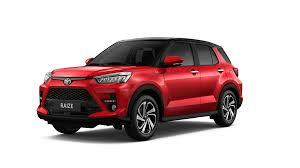toyota: (60, 78, 74, 87)
